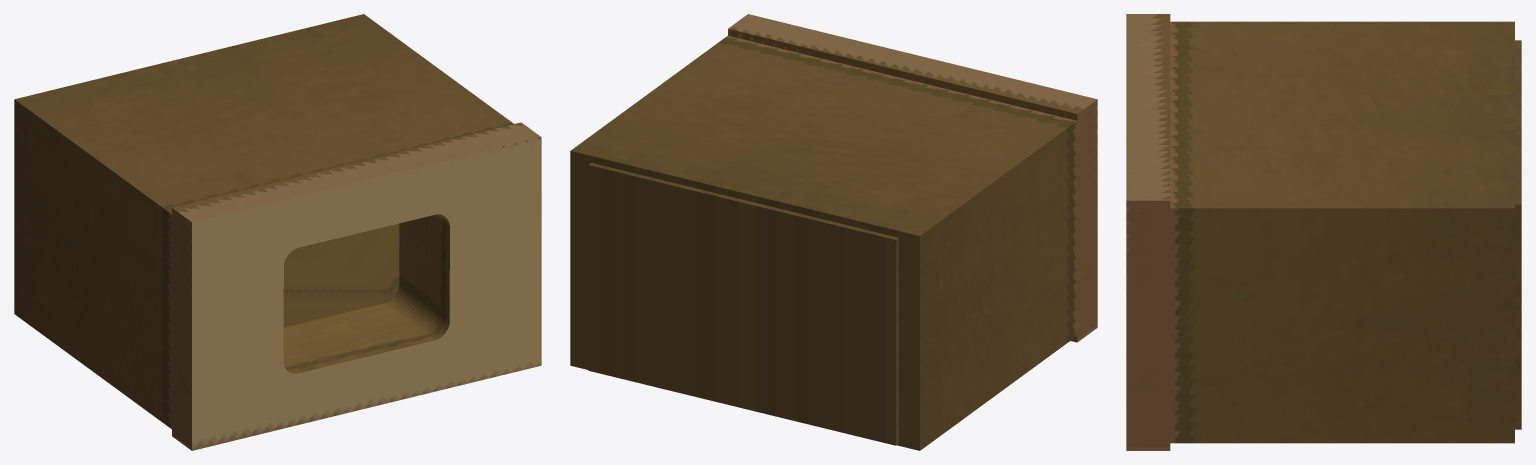
File: pz_counter_birchwood_floor__sink_inset_rect.obj
3 views of the same model, side by side, from view 1: azimuth 30°, elevation 25°; view 2: azimuth 150°, elevation 25°; view 3: azimuth 270°, elevation 25° (orthographic). The views are drawn at different scales.
Bounding box in the file's own units: 1 × 0.6266 × 0.895.
Materials: 1 (1 with a texture image).
